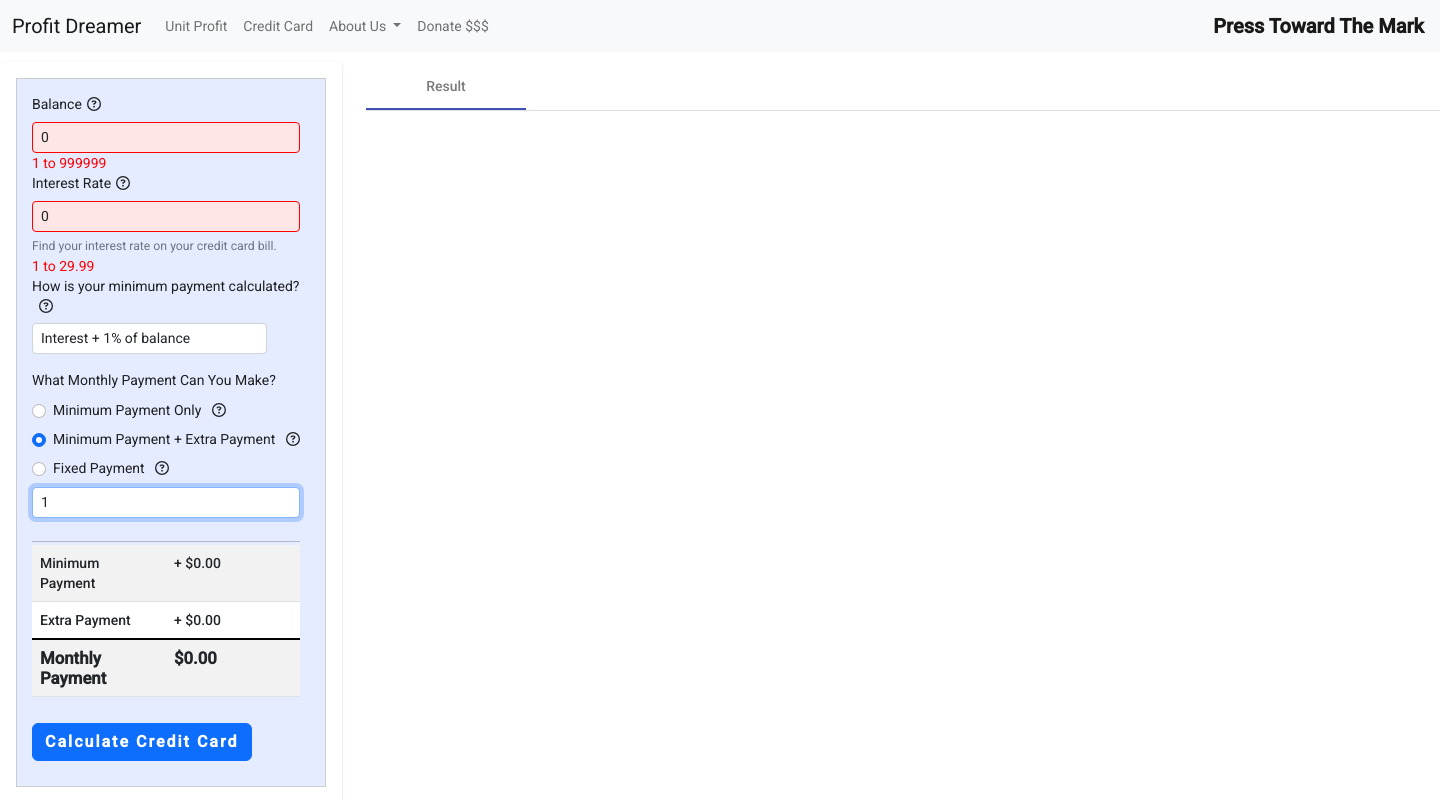
Test: credit-card-validation.cy.ts › extra payment › enter 0 error should be visible
This screenshot has width=1440, height=800.
Replace the text in the field with id "extra-payment" with "0". click: (166, 503)
box: [32, 487, 300, 518]
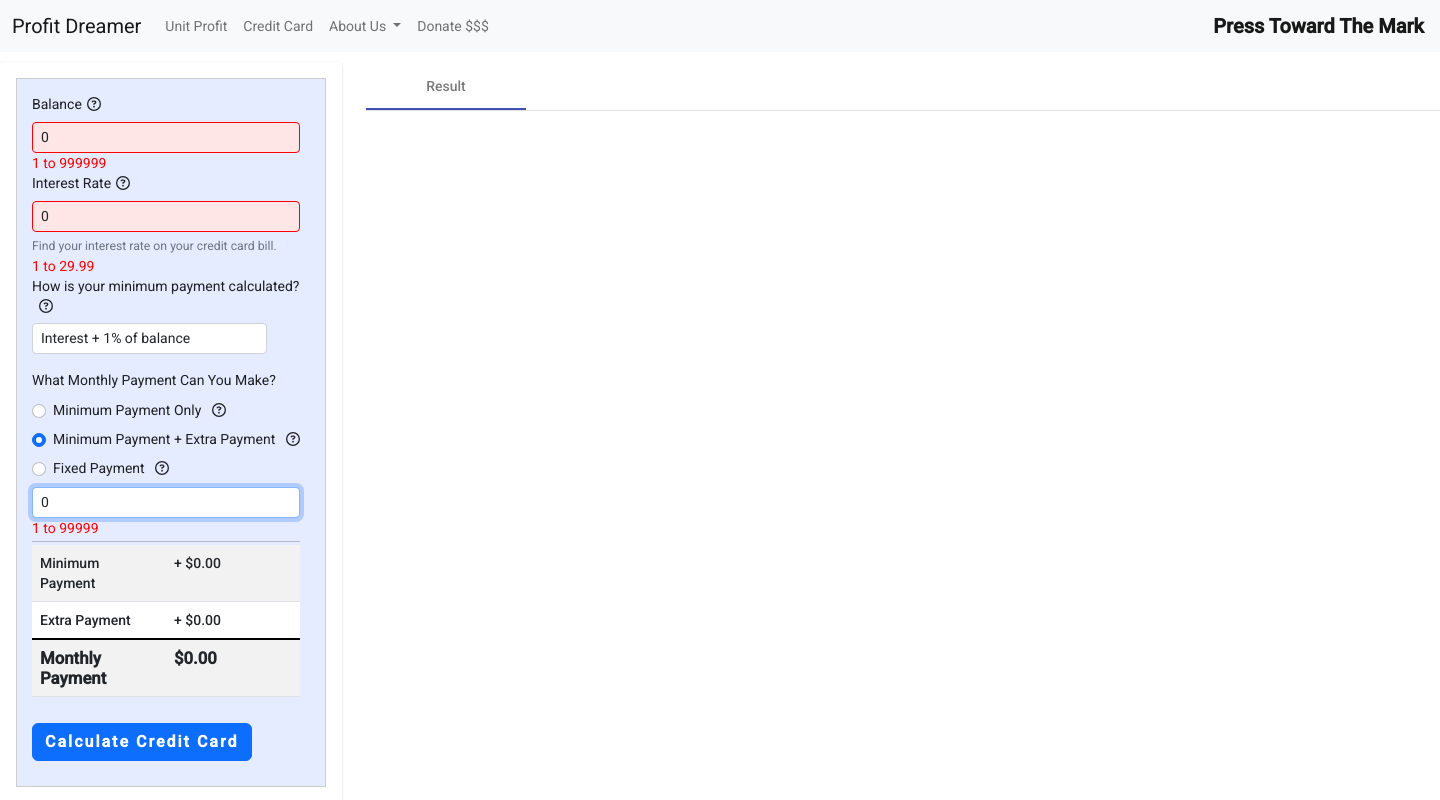
Expected: the text "1 to 99999" is shown, [32, 520, 99, 536]
